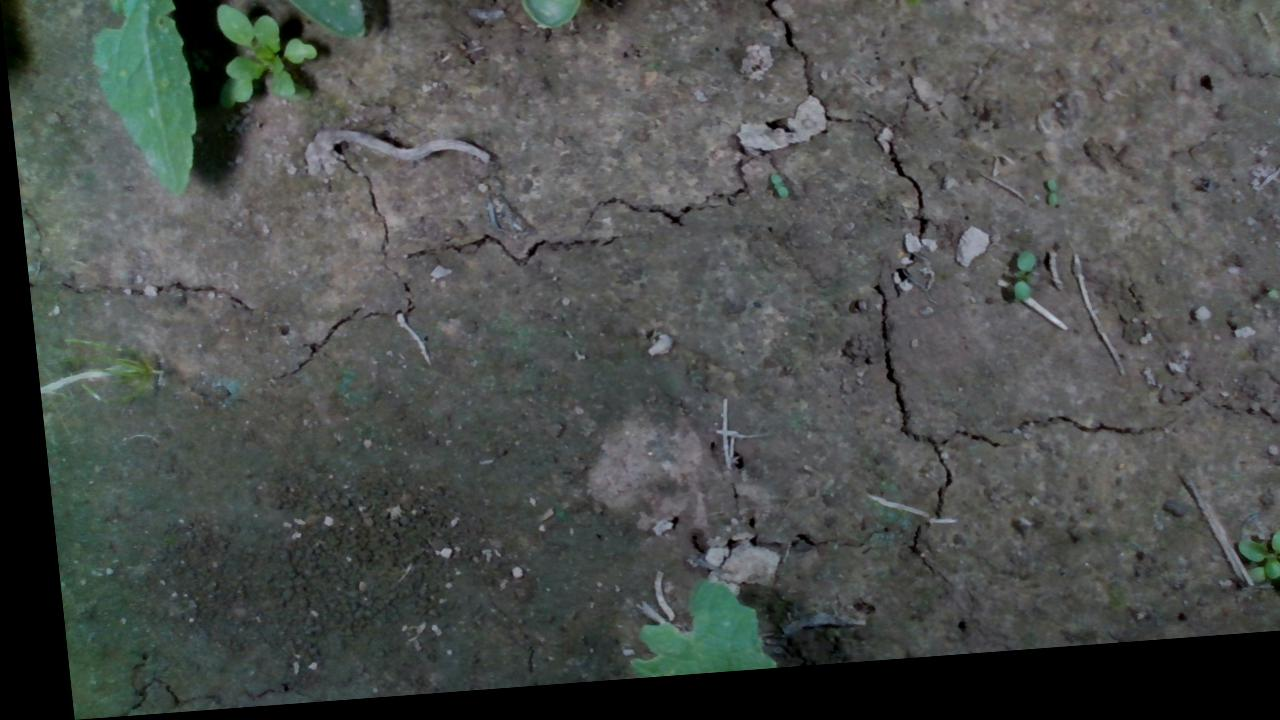weed: (1219, 542, 1279, 615), (1000, 262, 1032, 317), (763, 183, 784, 212), (1036, 191, 1051, 222)
